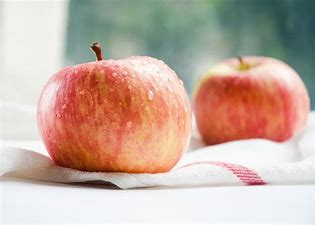fruit_apple: (33, 39, 194, 175), (189, 51, 311, 147)
